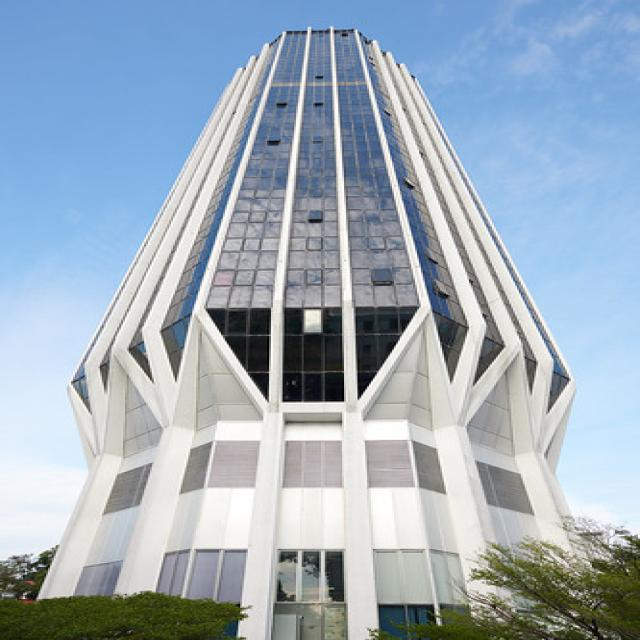Normal_building: (51, 19, 593, 640)
